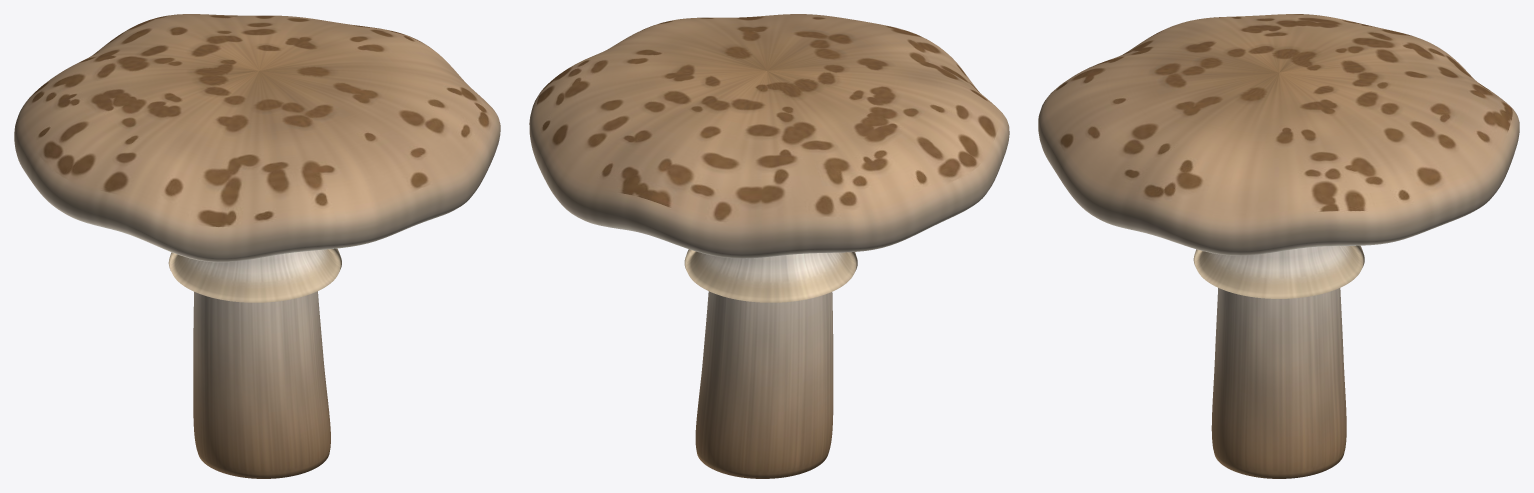
The model's file is tricholoma-matsutake-drawn.glb.
3 renders of one model, left to right at view 1: azimuth 30°, elevation 25°; view 2: azimuth 150°, elevation 25°; view 3: azimuth 270°, elevation 25°, orthographic.
Size of the model in its own units: 0.8813 by 0.785 by 0.899.
Materials: 1 (1 with a texture image).
